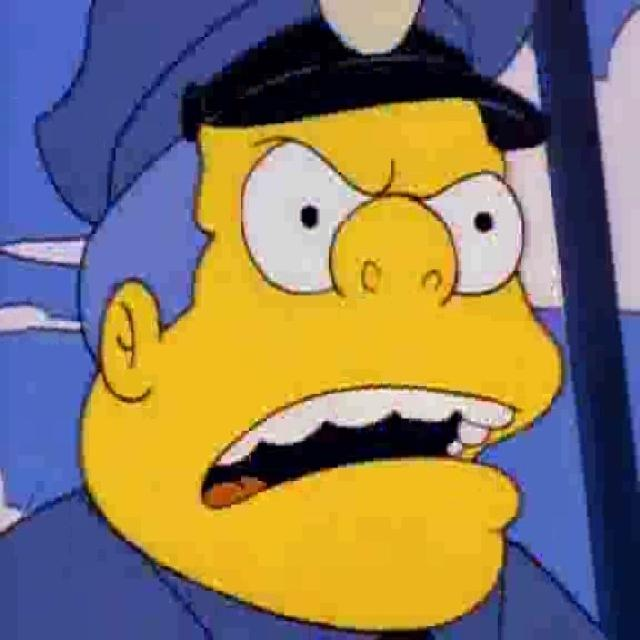Chief Wiggam: (29, 0, 568, 637)
